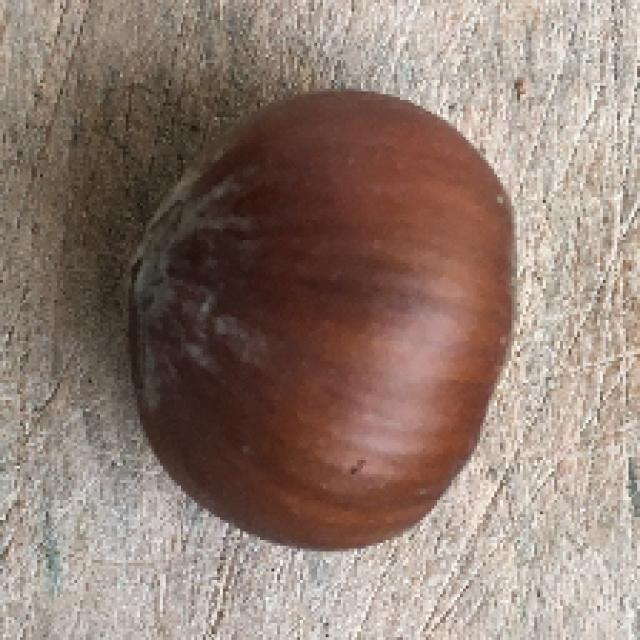qualityHazelnut: (121, 86, 519, 554)
